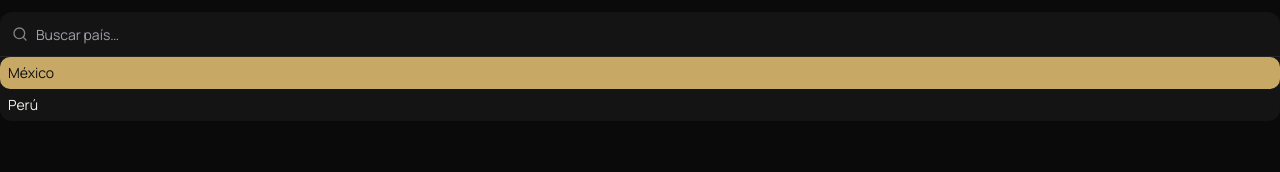
Scenario: buscar sin acentos › en la lista, escribir 'mexico' muestra México
The width and height of the screenshot is (1280, 172).
Type "mexico" into the dropdown with placeholder "Buscar país…" at (652, 34), box [36,12,1268,56]
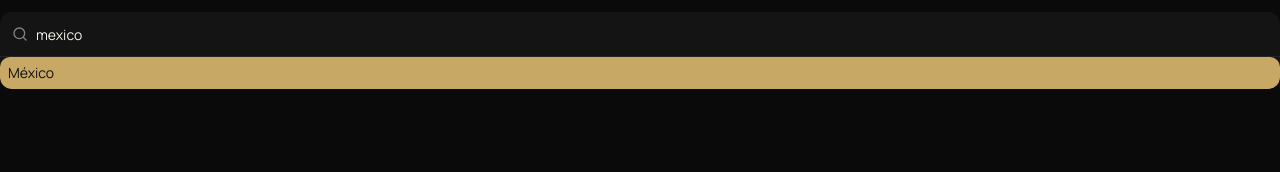
Expected: the option "México" is shown, [0,57,1279,89]
Result: the option "Perú" is gone
